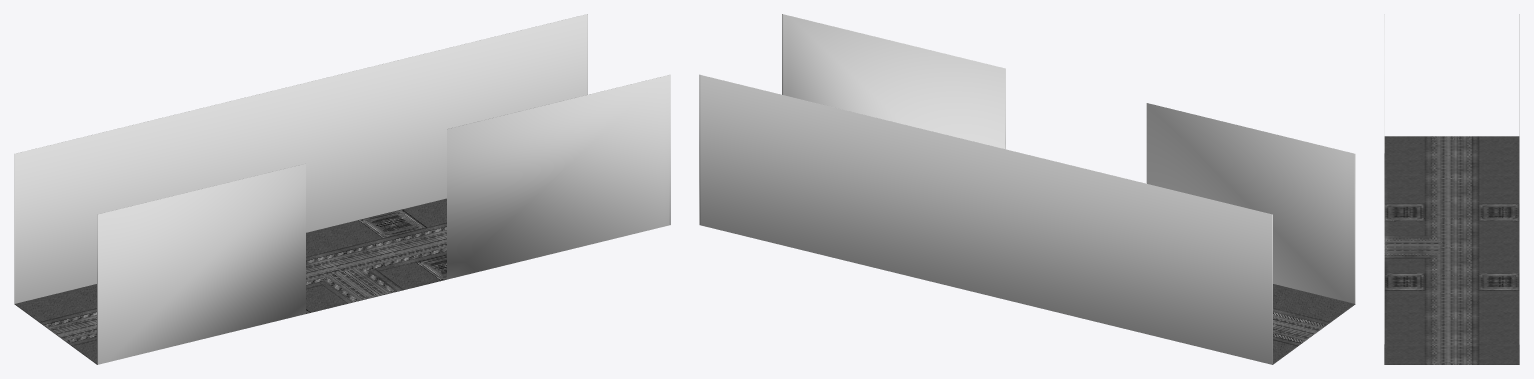
The model's file is corridor_c-4.fbx.
3 renders of one model, left to right at view 1: azimuth 30°, elevation 25°; view 2: azimuth 150°, elevation 25°; view 3: azimuth 270°, elevation 25°, orthographic. The views are drawn at different scales.
Parts seen in each view (by area): view 1: corridor C-4; view 2: corridor C-4; view 3: corridor C-4.
Part boxes in pixels (x1,y1,x2,y2): corridor C-4: (14,14,670,364); corridor C-4: (699,14,1355,364); corridor C-4: (1384,14,1519,364).
Size of the model in its own units: 1443 by 361 by 362.
